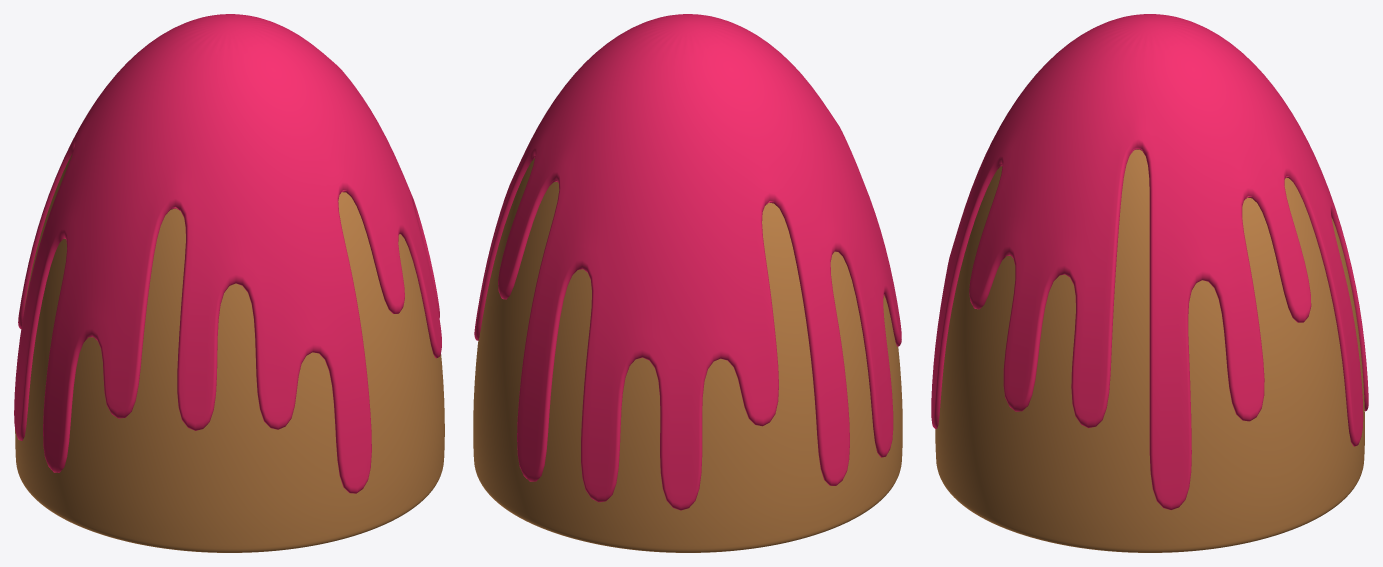
Rendered from hill2.fbx.
3 renders of one model, left to right at view 1: azimuth 30°, elevation 25°; view 2: azimuth 150°, elevation 25°; view 3: azimuth 270°, elevation 25°, orthographic.
Visible parts, largest first — view 1: Sphere.001; view 2: Sphere.001; view 3: Sphere.001.
Part boxes in pixels (x1=…): Sphere.001: x1=14, y1=14, x2=444, y2=552; Sphere.001: x1=473, y1=14, x2=902, y2=552; Sphere.001: x1=931, y1=14, x2=1368, y2=552.
Bounding box in the file's own units: 1984 × 2204 × 1984.
